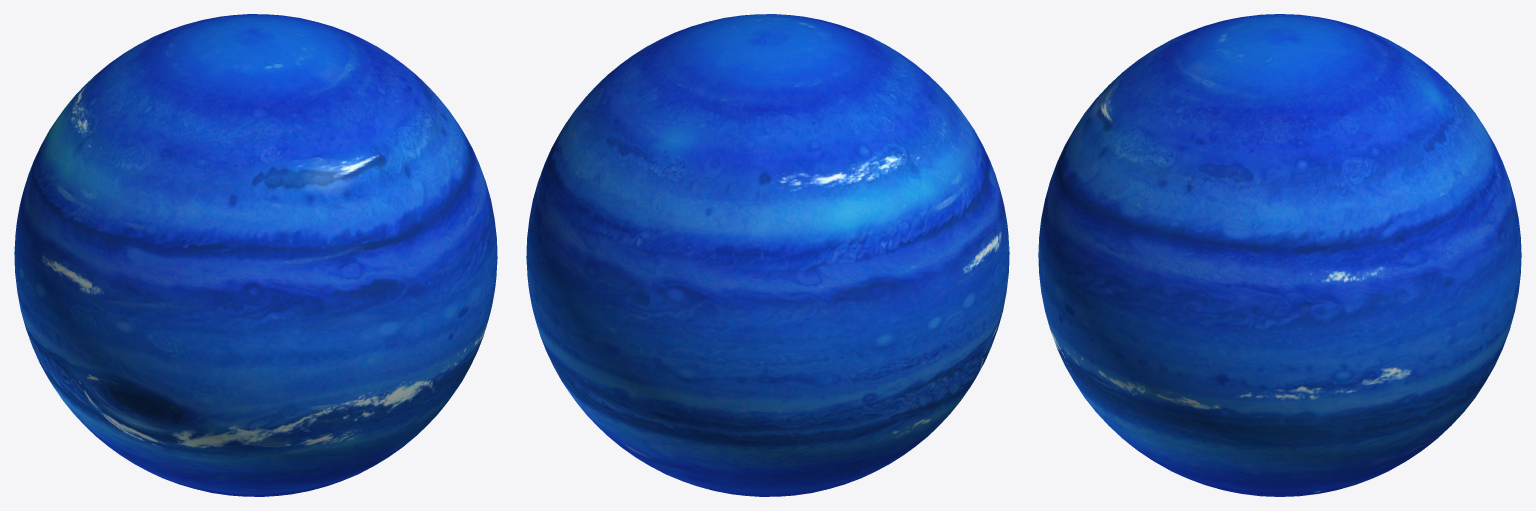
Rendered from Neptune.fbx.
3 views of the same model, side by side, from view 1: azimuth 30°, elevation 25°; view 2: azimuth 150°, elevation 25°; view 3: azimuth 270°, elevation 25° (orthographic).
Parts seen in each view (by area): view 1: 201; view 2: 201; view 3: 201.
Boxes of the visible parts, x1,y1,x2,y2 form: 201: [14, 14, 497, 496]; 201: [526, 14, 1009, 496]; 201: [1038, 14, 1521, 496].
Size of the model in its own units: 4.92 by 4.92 by 4.92.
